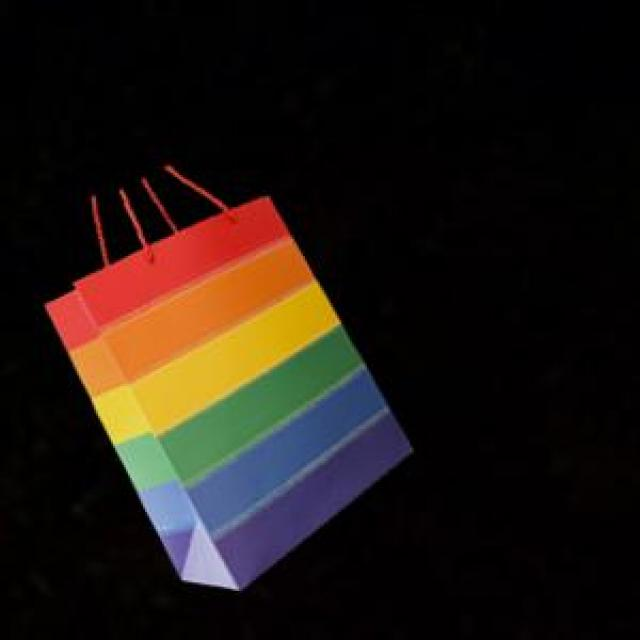Paper -Biodegradable-: (42, 194, 405, 592)
